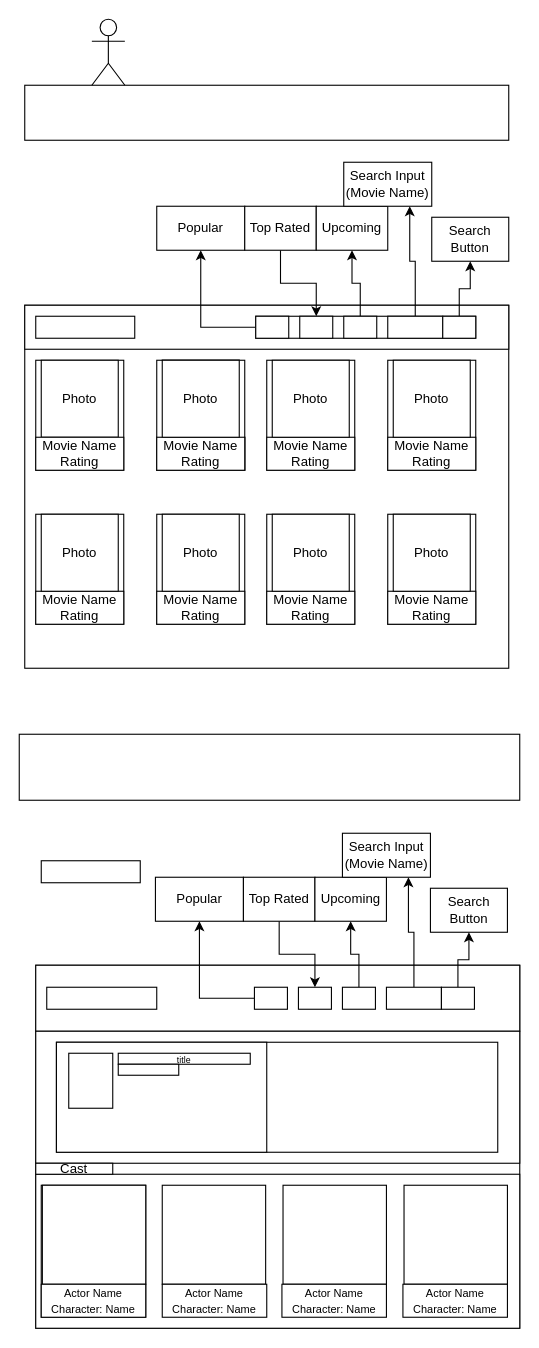
Some shapes in this 539 by 1348 pixel diagram are drawn without their labels. The centre of each missing label's shape, as x and y in pixels:
"1. Home Page" goes at (x=266, y=112).
"2. Movie Detail" goes at (x=269, y=766).
"Actor" goes at (x=108, y=51).
